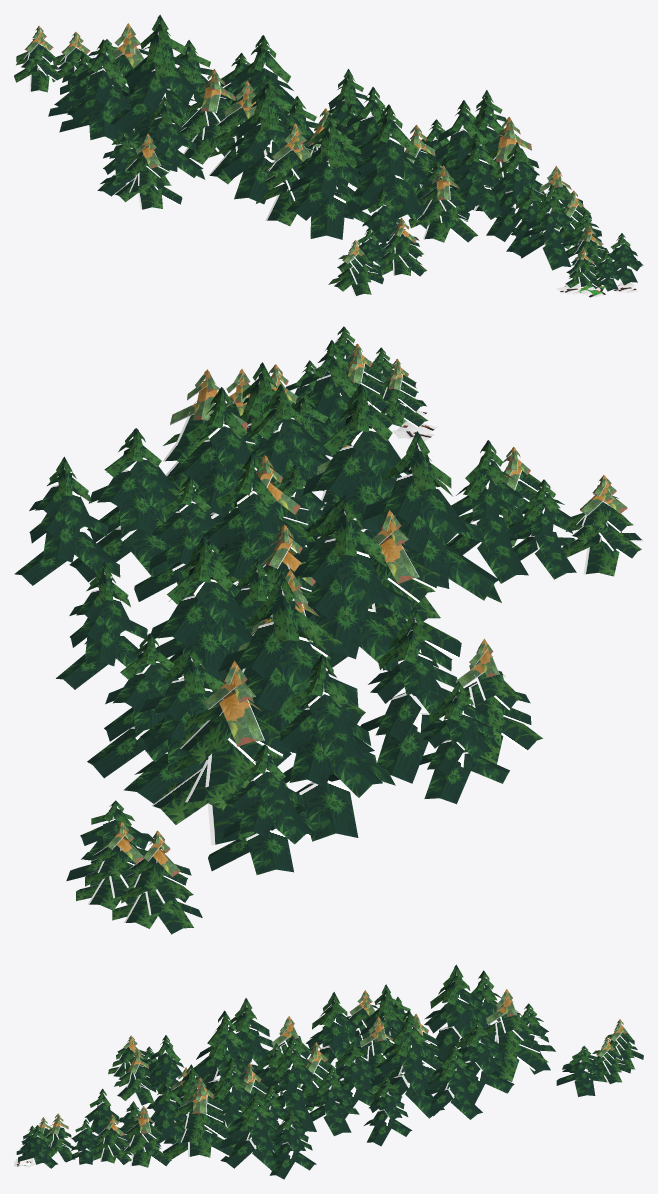
File: area_08_9.fbx
3 views of the same model, one above another, from view 1: azimuth 30°, elevation 25°; view 2: azimuth 150°, elevation 25°; view 3: azimuth 270°, elevation 25° (orthographic). The views are drawn at different scales.
Visible parts, largest first — view 1: area_08_9; view 2: area_08_9; view 3: area_08_9.
Part boxes in pixels (bbox=[...]): area_08_9: bbox=[14, 14, 643, 297]; area_08_9: bbox=[14, 326, 643, 935]; area_08_9: bbox=[14, 964, 643, 1179].
Size of the model in its own units: 45.02 by 16.79 by 83.51.
